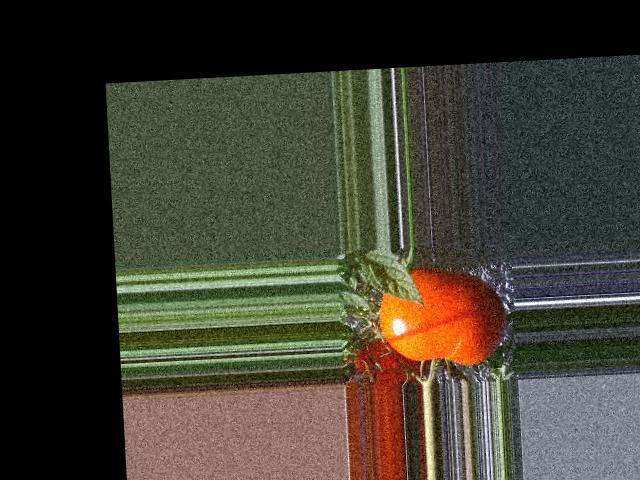tomato: (376, 263, 507, 369)
